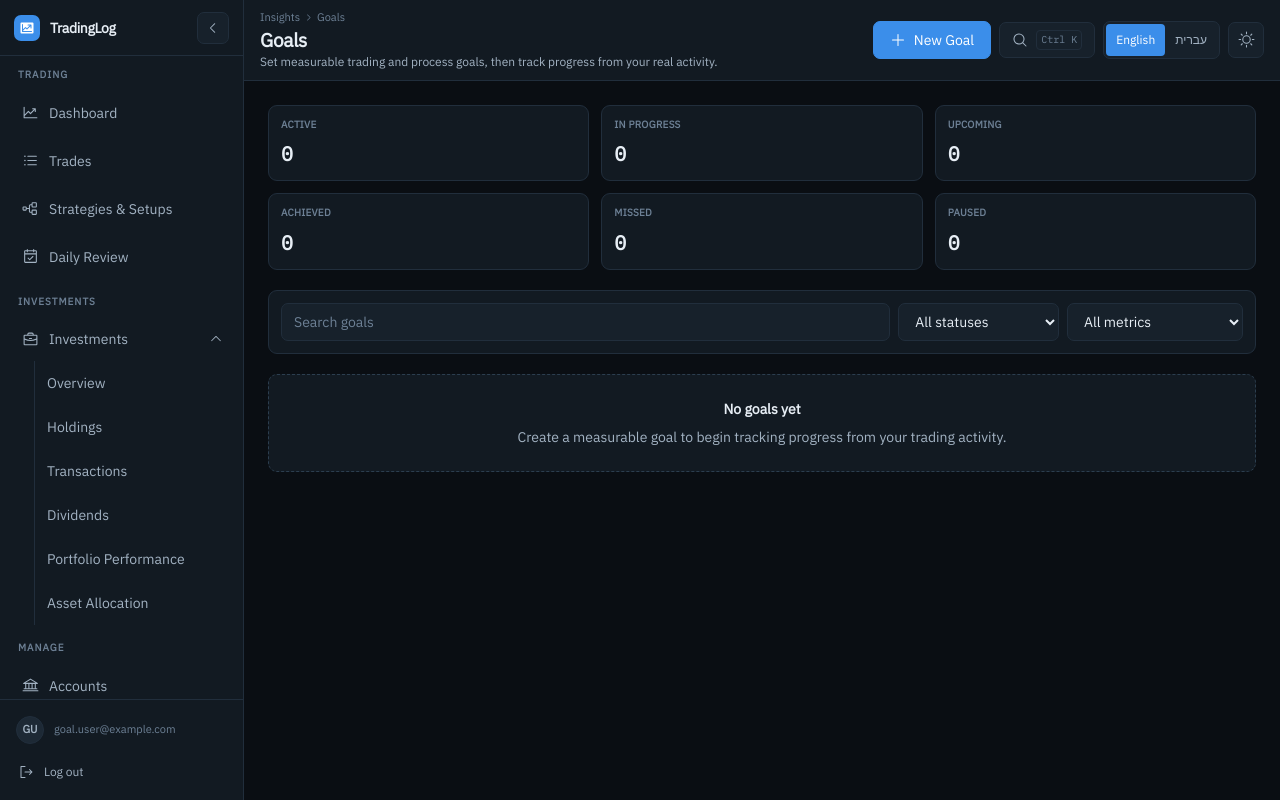
Goals page › shows truthful no-goals and filtered-empty states with a real clear action
This screenshot has width=1280, height=800.
Expected: the heading "No goals yet" is shown, x1=723 y1=400 x2=800 y2=418
Expected: the text "Create a measurable goal to begin tracking progress from your trading activity." is shown, x1=506 y1=427 x2=1018 y2=447
Type "missing" into the search field with placeholder "Search goals" at (586, 322), box x1=281 y1=303 x2=890 y2=341
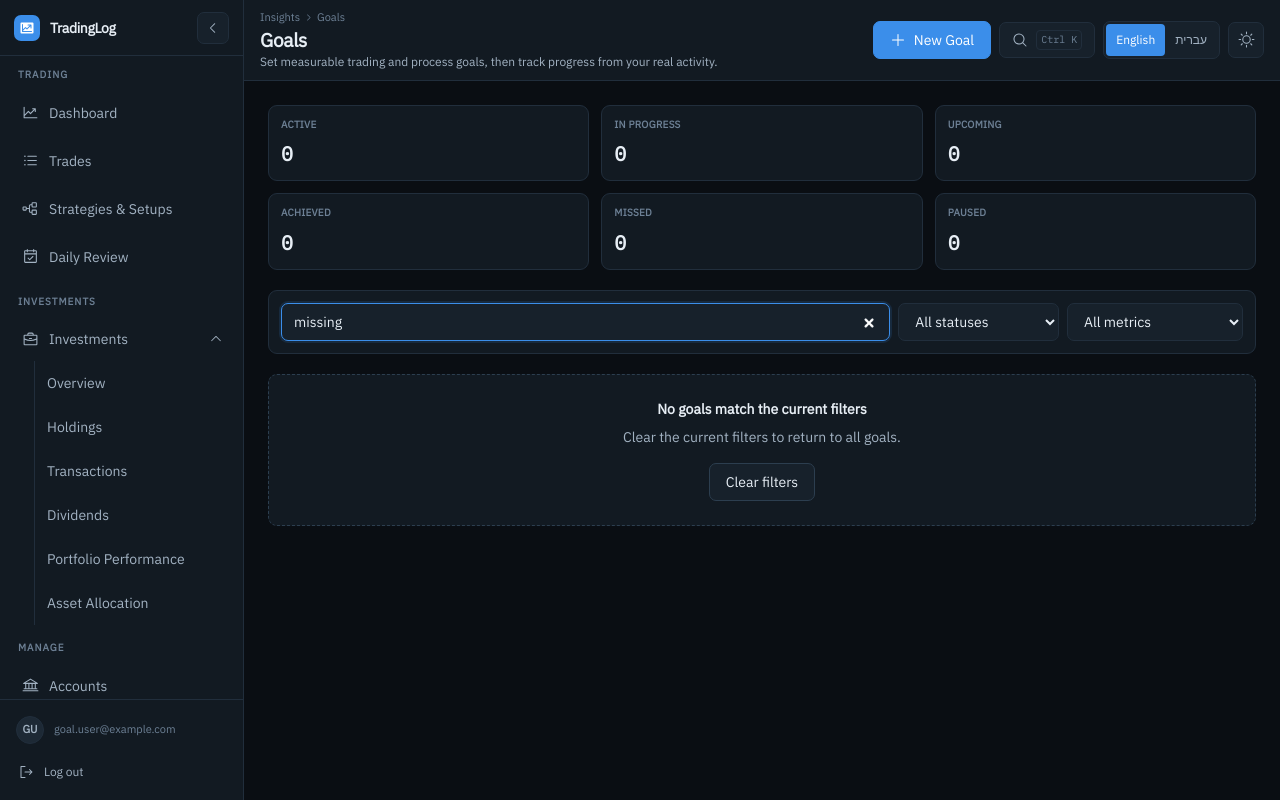
Result: the heading "No goals match the current filters" is shown at x1=657 y1=400 x2=867 y2=418
Click the button "Clear filters" at (762, 482), box x1=709 y1=463 x2=815 y2=501
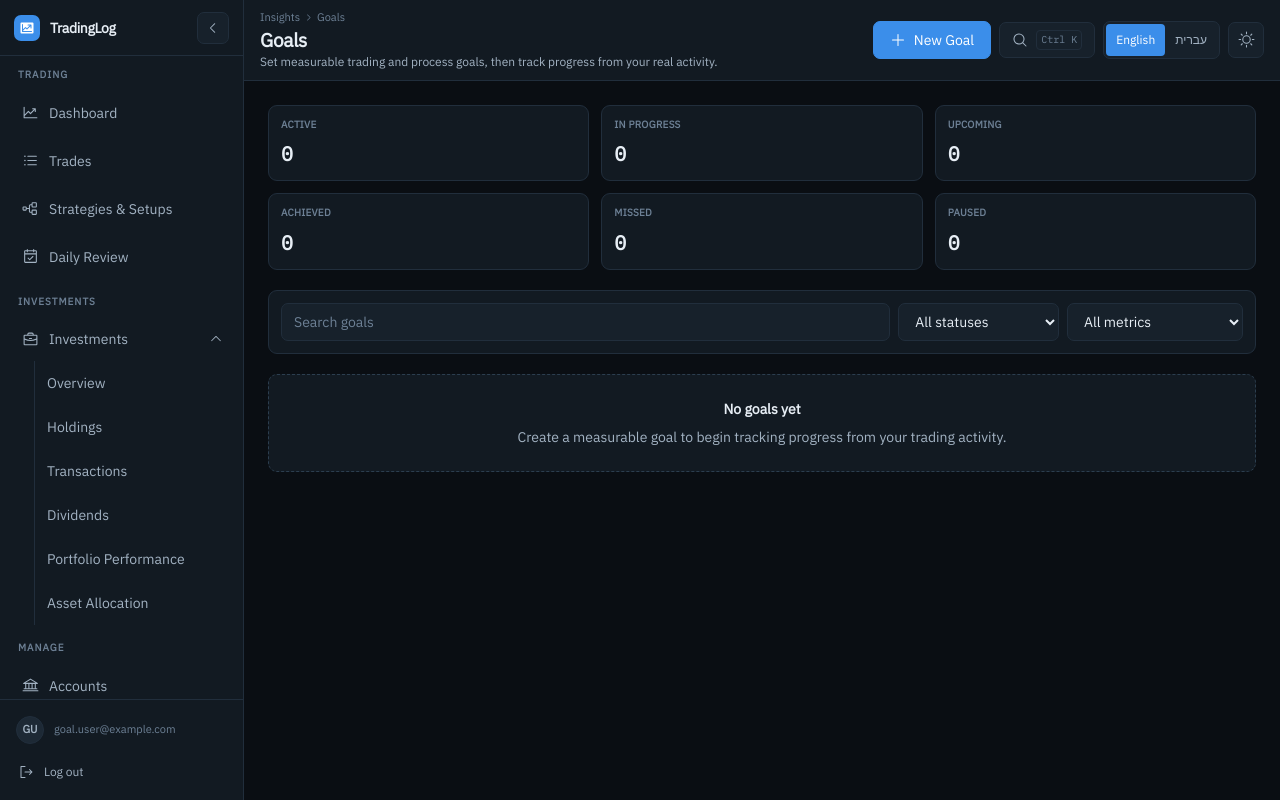
Result: the search field with placeholder "Search goals" is empty at x1=281 y1=303 x2=890 y2=341
